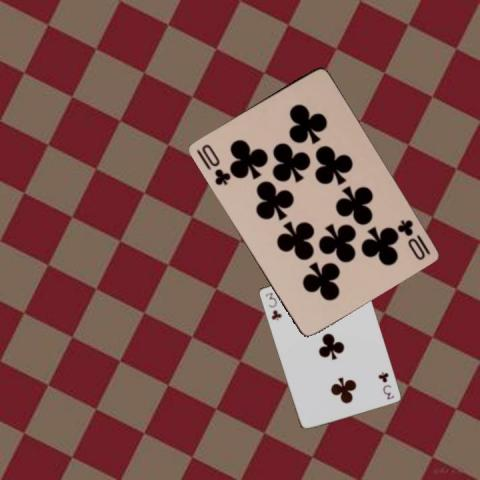10c: (193, 140, 232, 186), (394, 217, 431, 262)
3c: (262, 289, 283, 322), (376, 368, 396, 400)
